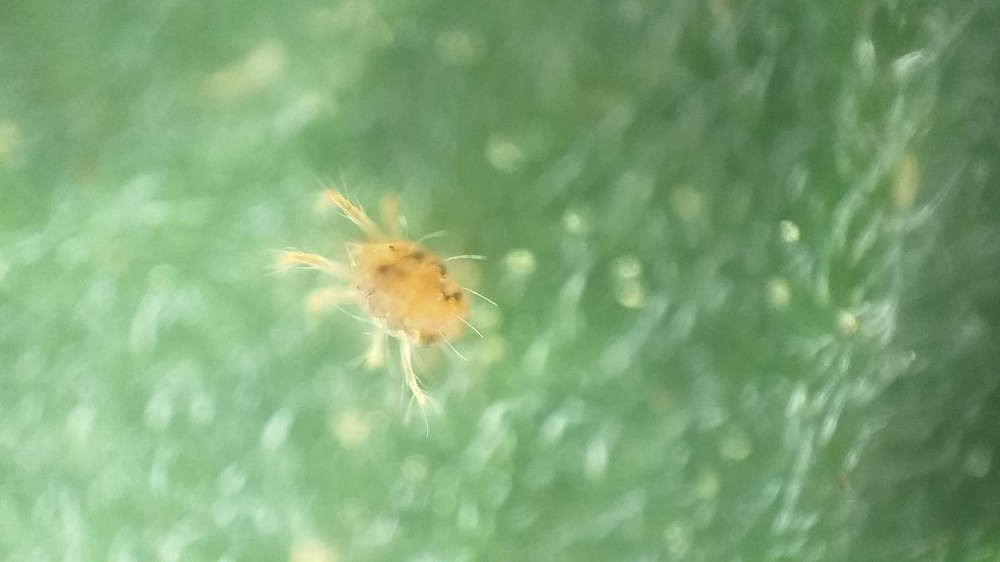Aracnido Rojo: (250, 175, 520, 425)
